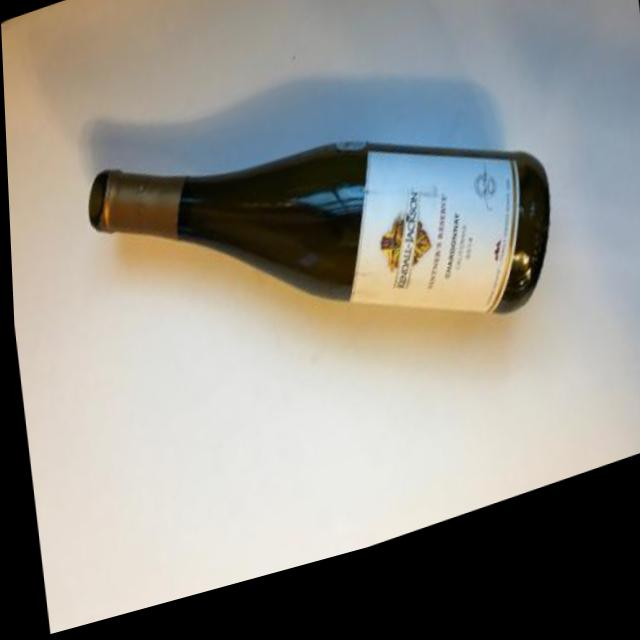glass: (55, 0, 590, 522)
